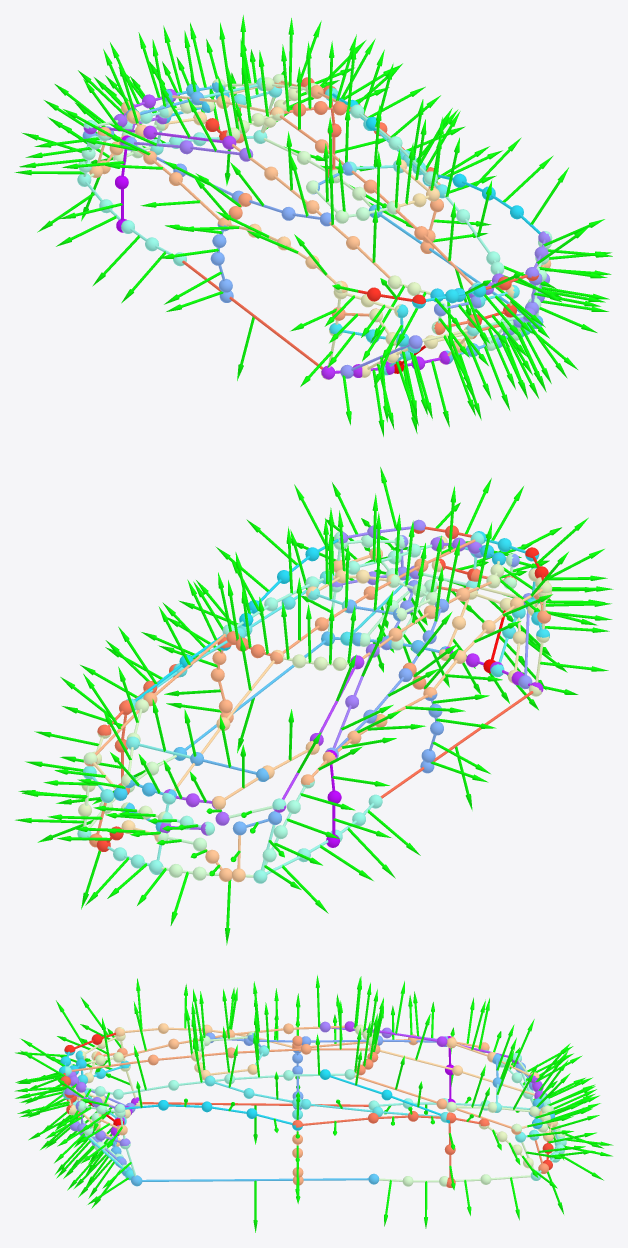
Rendered from ils_car3.gltf.
3 views of the same model, one above another, from view 1: azimuth 30°, elevation 25°; view 2: azimuth 150°, elevation 25°; view 3: azimuth 270°, elevation 25° (orthographic). The views are drawn at different scales.
Bounding box in the file's own units: 0.5541 × 0.3845 × 1.1.
